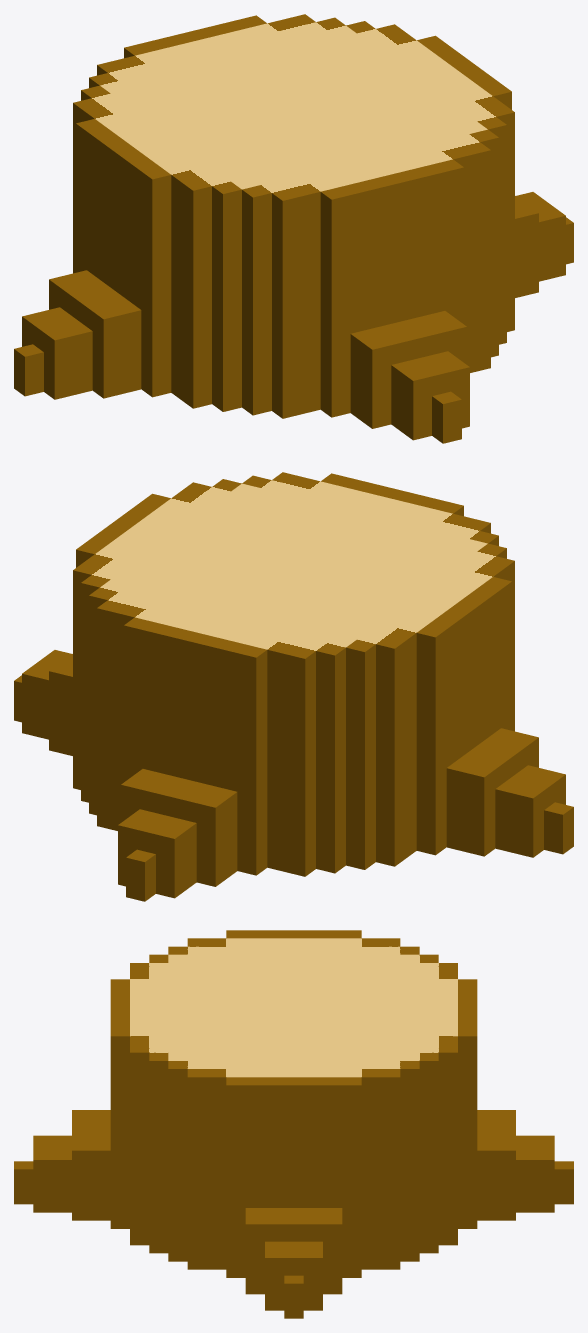
The model's file is Stump.dae.
3 renders of one model, top to bottom at view 1: azimuth 30°, elevation 25°; view 2: azimuth 150°, elevation 25°; view 3: azimuth 270°, elevation 25°, orthographic. The views are drawn at different scales.
Parts seen in each view (by area): view 1: stump.merged; view 2: stump.merged; view 3: stump.merged.
Part boxes in pixels (x1,y1,x2,y2): stump.merged: (14, 14, 573, 443); stump.merged: (14, 472, 573, 901); stump.merged: (14, 930, 573, 1318).
Size of the model in its own units: 2.9 by 1.1 by 2.9.
Materials: 1 (1 with a texture image).
